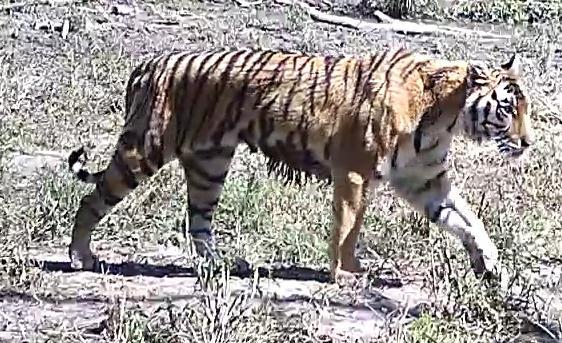tiger: (69, 47, 531, 278)
